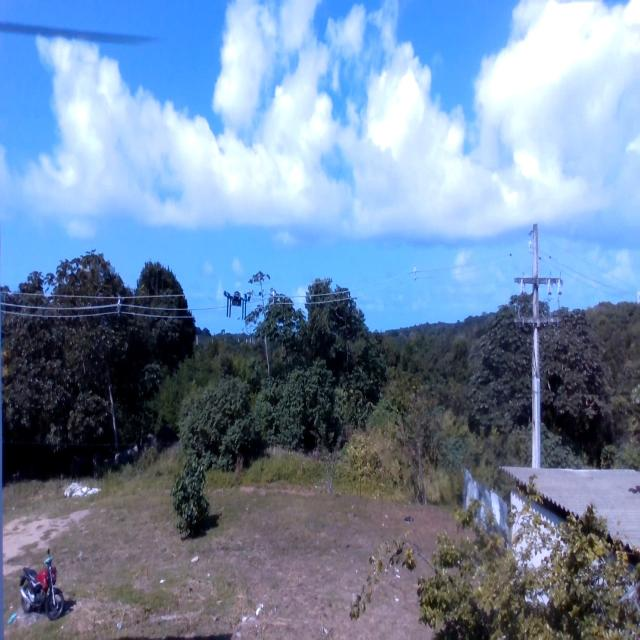-uav-: (222, 282, 254, 324)
